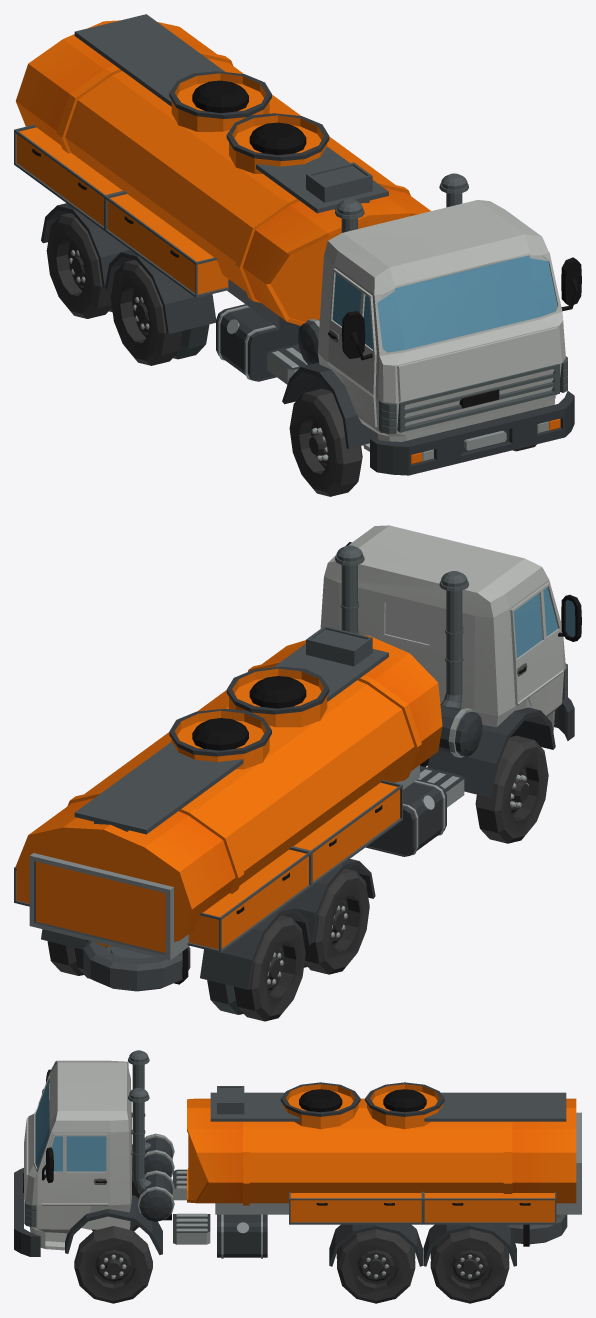
Rendered from kamaz_fuel_truck_white.fbx.
The picture shows the model from 3 angles, top to bottom: view 1: azimuth 30°, elevation 25°; view 2: azimuth 150°, elevation 25°; view 3: azimuth 270°, elevation 25°; orthographic projection. The views are drawn at different scales.
Parts seen in each view (by area): view 1: Cube.047; view 2: Cube.047; view 3: Cube.047.
Boxes of the visible parts, bbox=[...] form: Cube.047: bbox=[14, 14, 581, 496]; Cube.047: bbox=[14, 525, 581, 1021]; Cube.047: bbox=[14, 1050, 581, 1303].
Bounding box in the file's own units: 281 × 301 × 790.
1 material, 1 textured.
